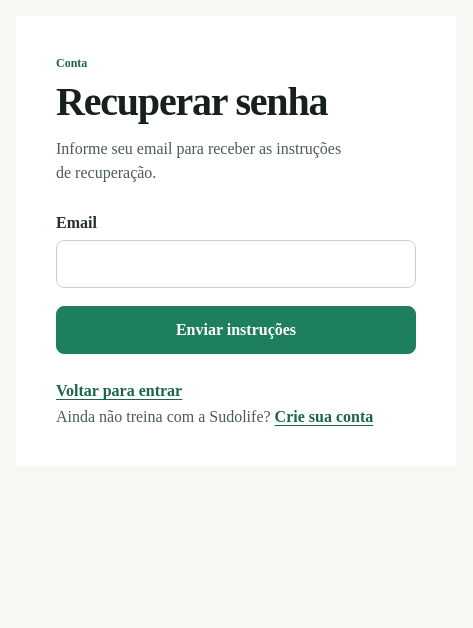
Test: PasswordRecoveryRequestComponent › should_show_generic_confirmation_after_request
Step 1. Type "gabriel@sudolife.com" into the field named "email" → (236, 264), box [56,240,416,288]
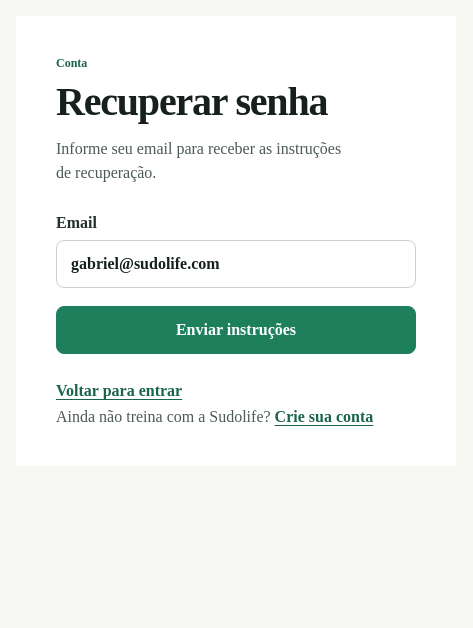
Step 2. Submit the form, box [56,214,416,354]
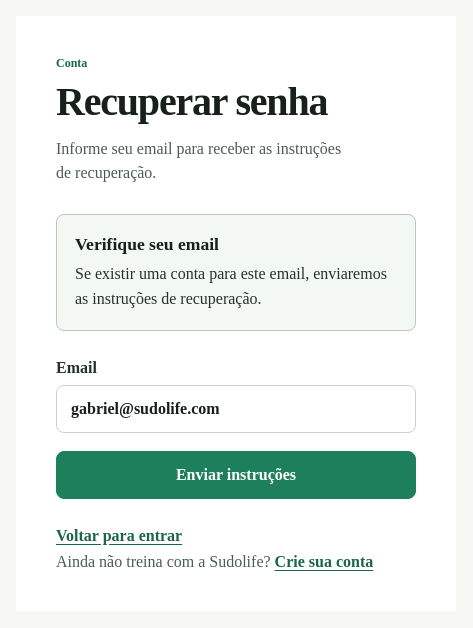
Expected: the text "Se existir uma conta para este email" is shown, [75,265,387,307]
